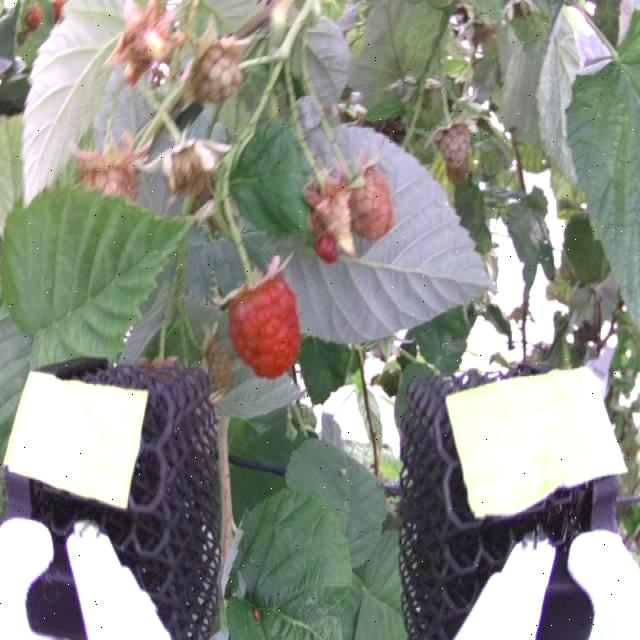Riped berries: (225, 263, 306, 376)
